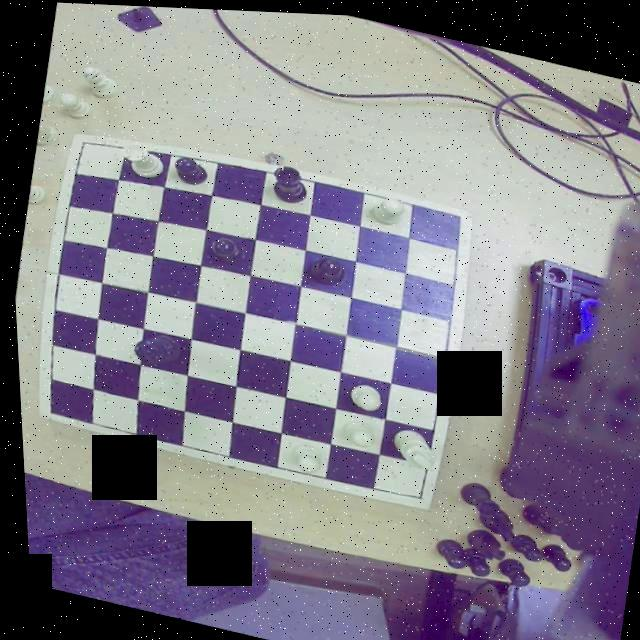chess-table-corners: (438, 202, 468, 230), (400, 479, 427, 505), (32, 402, 63, 422), (67, 134, 93, 157)
